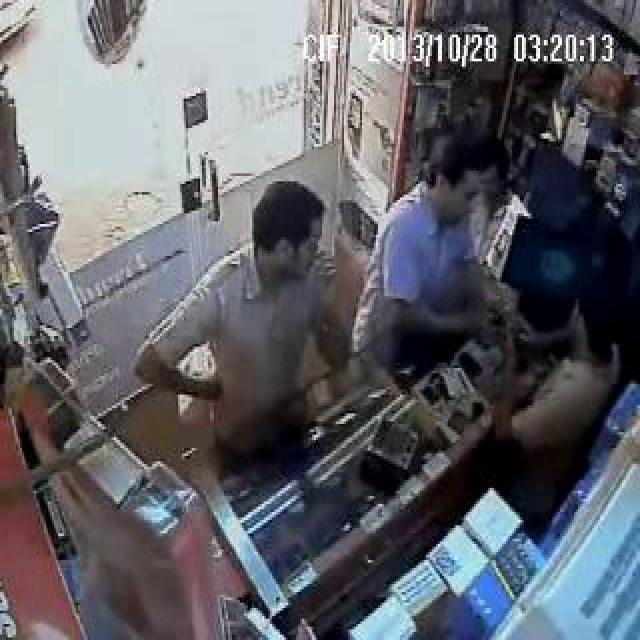shoplifting: (97, 186, 438, 524)
